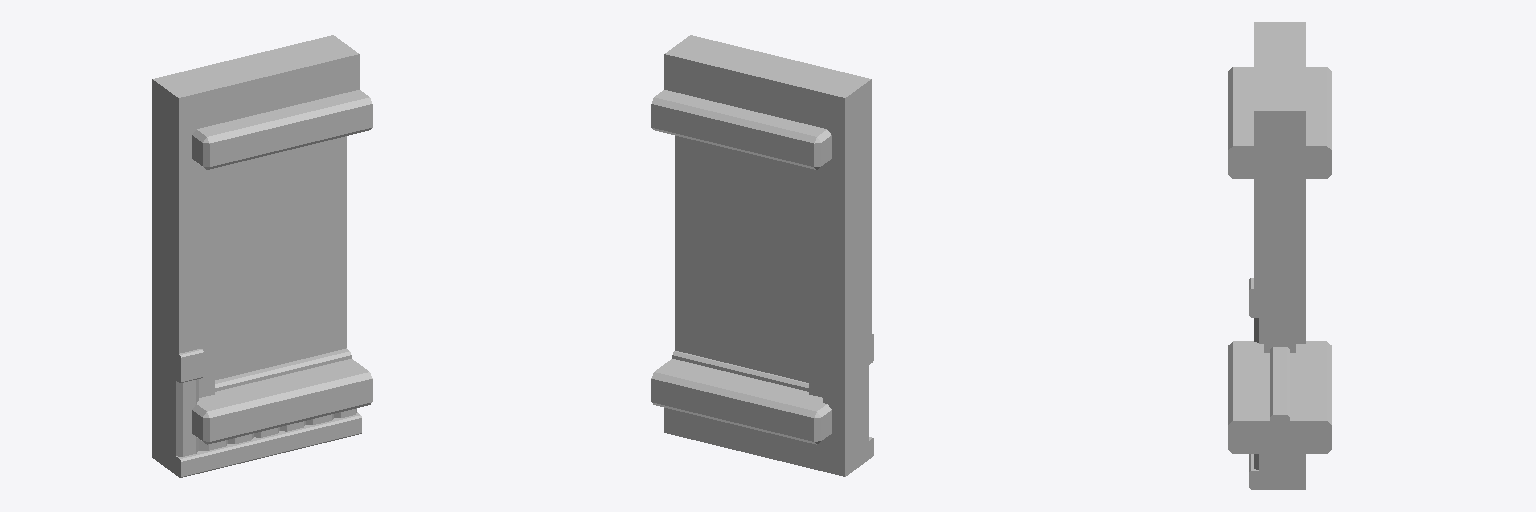
The model's file is wall_panelled_bakery_window_full_left.obj.
The picture shows the model from 3 angles: view 1: azimuth 30°, elevation 25°; view 2: azimuth 150°, elevation 25°; view 3: azimuth 270°, elevation 25°; orthographic projection.
Parts seen in each view (by area): view 1: wall_panelled_bakery_window_full_left; view 2: wall_panelled_bakery_window_full_left; view 3: wall_panelled_bakery_window_full_left.
Boxes of the visible parts, box(x1,y1,x2,y2) form: wall_panelled_bakery_window_full_left: box(152, 35, 372, 477); wall_panelled_bakery_window_full_left: box(651, 35, 873, 476); wall_panelled_bakery_window_full_left: box(1228, 22, 1331, 489).
Size of the model in its own units: 2 by 4 by 1.